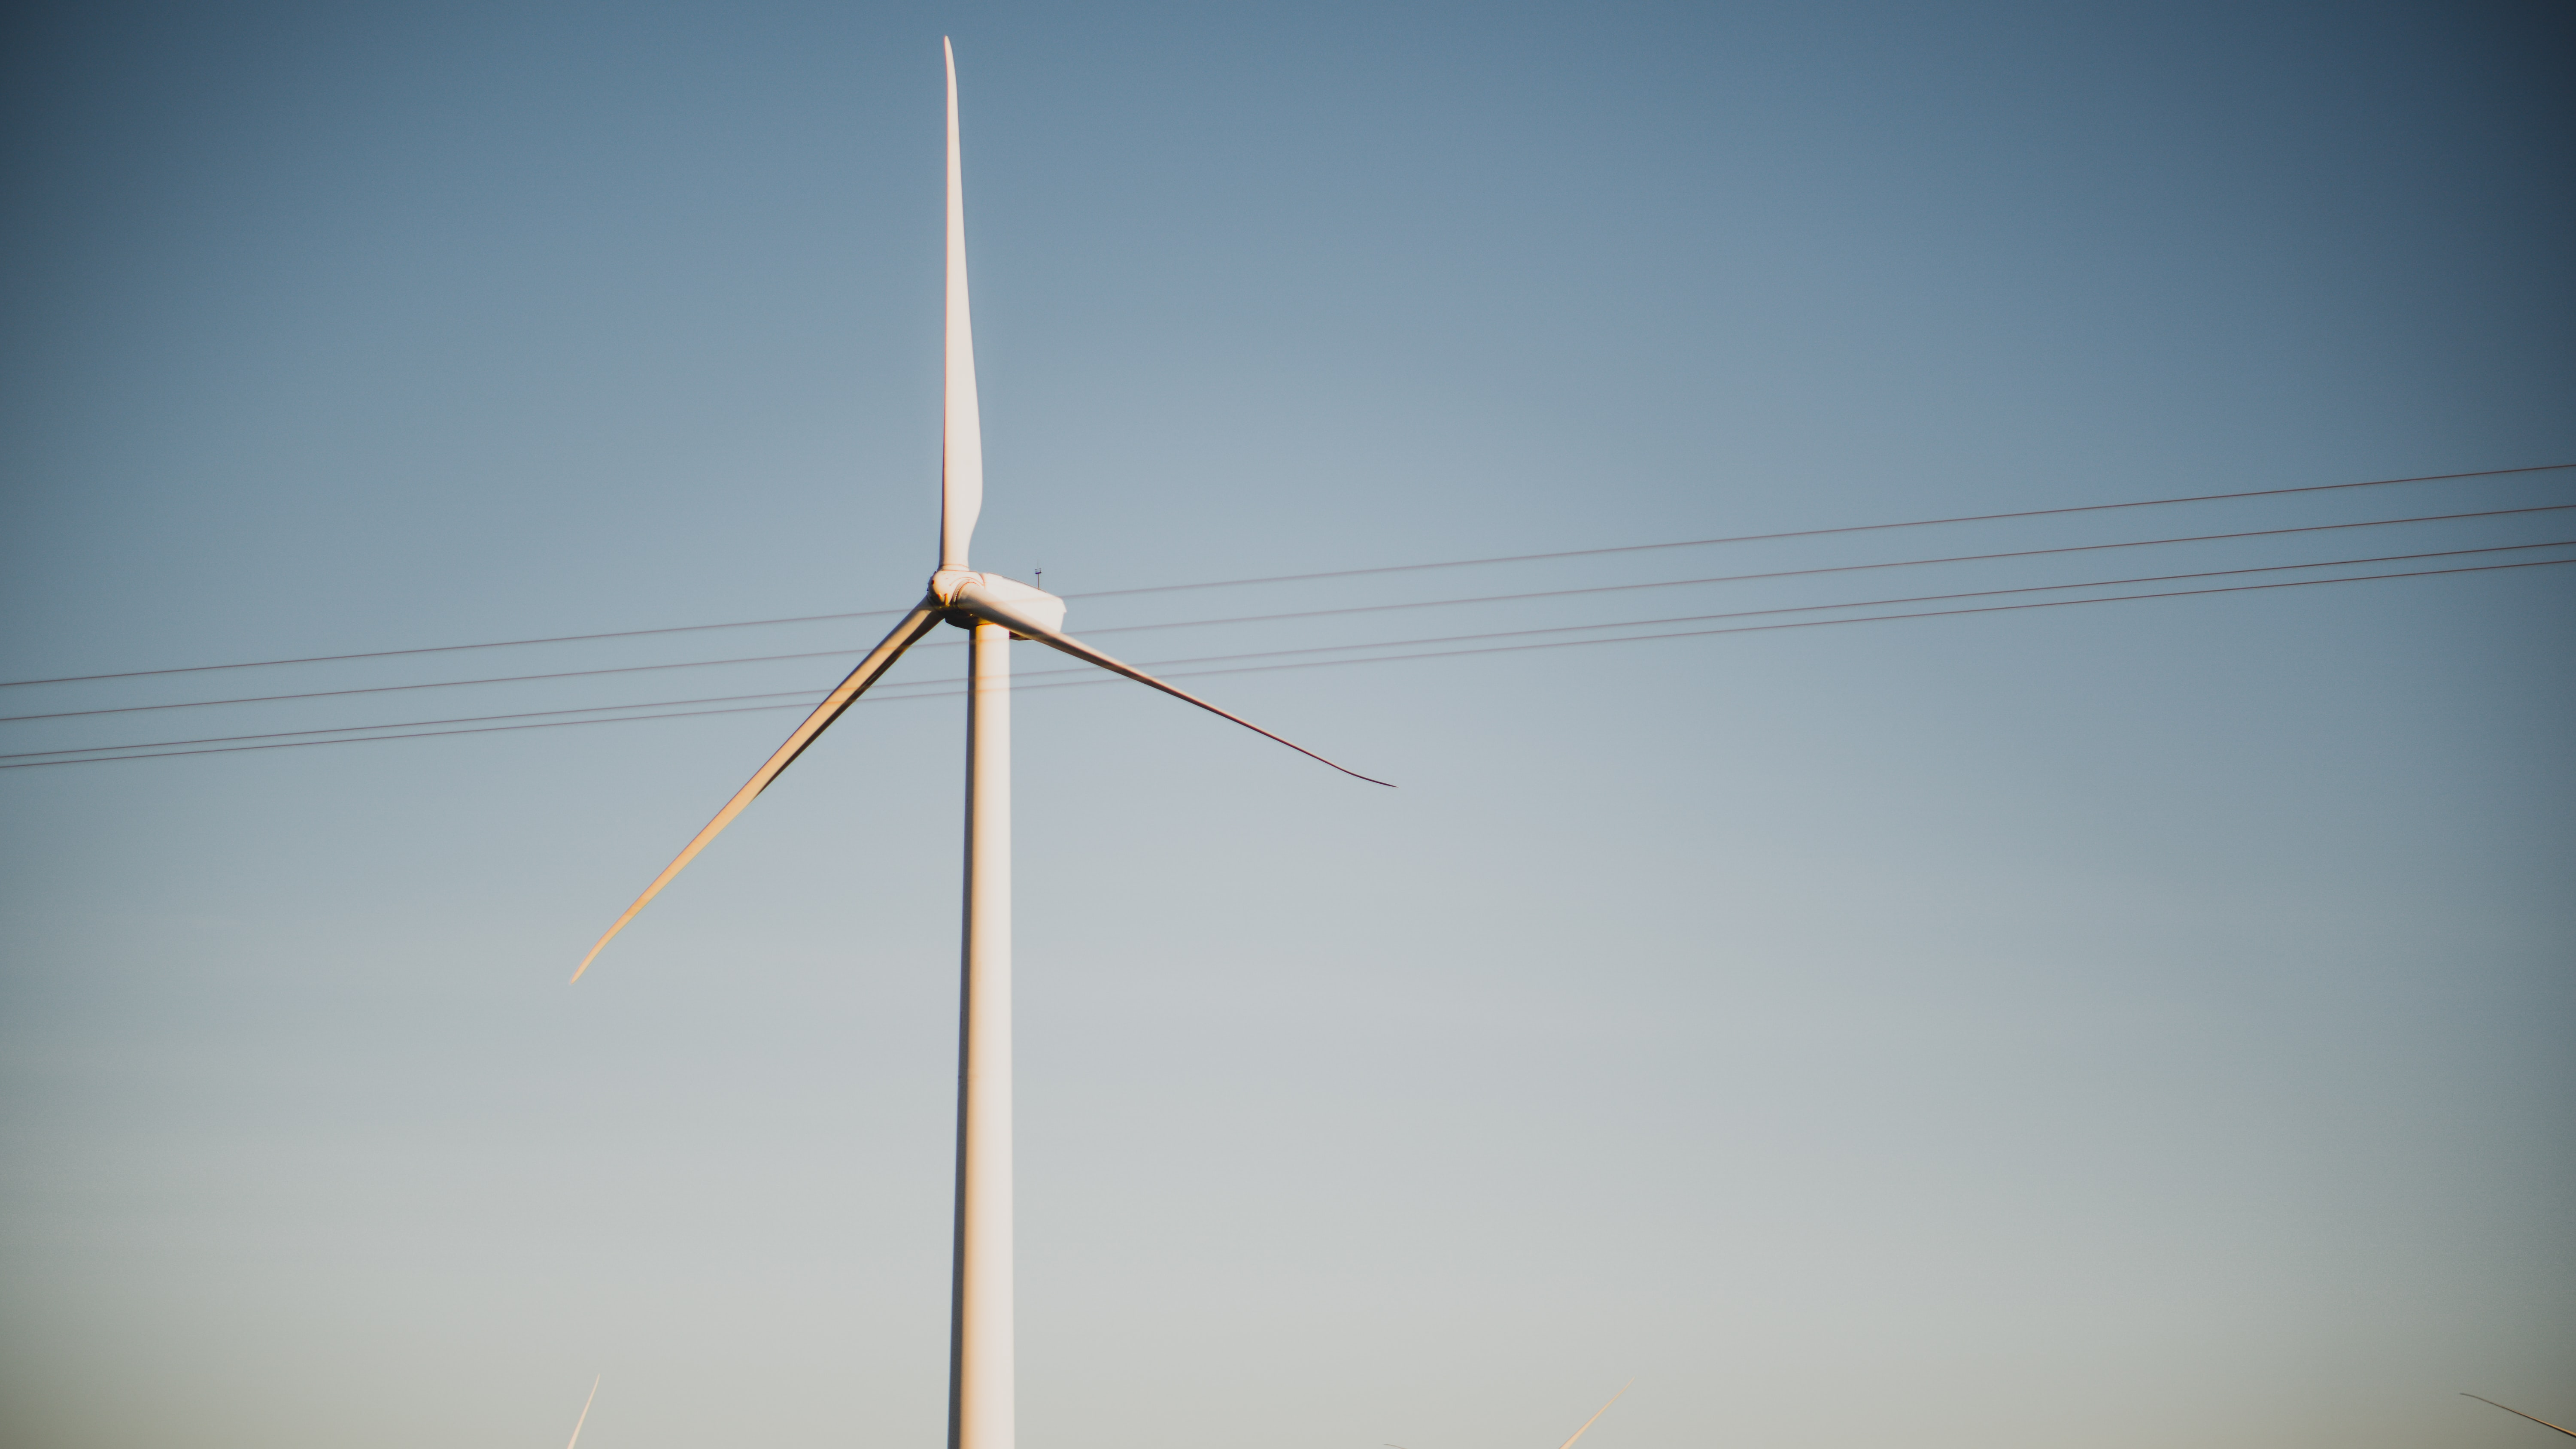working: (570, 34, 1408, 1155)
